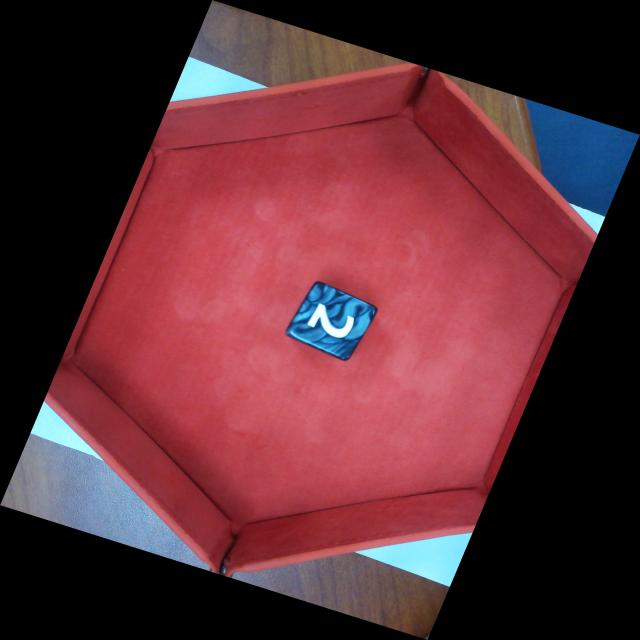dice: (280, 280, 380, 364)
